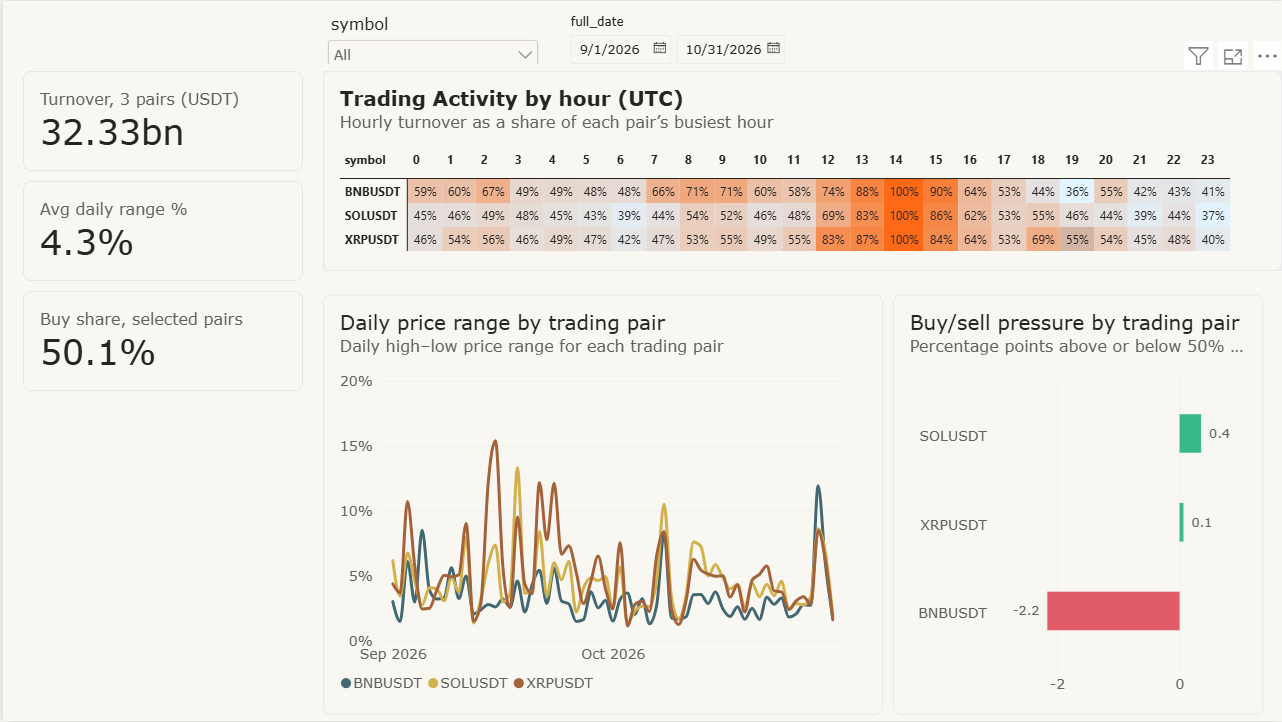

The dashboard page shown, as its layout file describes it:
{"tool":"powerbi","page":{"name":"Page 1","canvas":[1280,720],"ordinal":0},"visuals":[{"type":"pivotTable","title":"Trading Activity by hour (UTC)","fields":{"Columns":["gold vw_symbol_hourly_activity.hour_utc"],"Rows":["gold dim_symbol.symbol"],"Values":["Report Measures.Turnover vs own peak"]},"box":[320,70,960,200],"z":0},{"type":"slicer","fields":{"Values":["gold dim_symbol.symbol"]},"box":[320,12,220,50],"z":1000},{"type":"slicer","fields":{"Values":["gold dim_date.full_date"]},"box":[560,12,300,50],"z":2000},{"type":"lineChart","title":"Daily price range by trading pair","fields":{"Category":["gold dim_date.full_date"],"Series":["gold dim_symbol.symbol"],"Y":["Report Measures.Avg daily range %"]},"box":[320,293.8,560,420],"z":3000},{"type":"clusteredBarChart","title":"Buy/sell pressure by trading pair","fields":{"Category":["gold dim_symbol.symbol"],"Y":["Report Measures.Buy pressure pp"]},"box":[890,293.8,370,420],"z":4000},{"type":"cardVisual","fields":{"Data":["Report Measures.Turnover"]},"box":[20,70,280,100],"z":5000},{"type":"cardVisual","fields":{"Data":["Report Measures.Avg daily range %"]},"box":[20,180,280,100],"z":6000},{"type":"cardVisual","fields":{"Data":["Report Measures.Buy share"]},"box":[20,290,280,100],"z":7000}]}

Visuals, with their boxes in screenshot pixels (x1, y1, x2, y2), scaled from the page's 1280x720 canvas onto the 1282x722 screenshot:
"Trading Activity by hour (UTC)" pivotTable: rect(320, 70, 1281, 271)
slicer - gold dim_symbol.symbol: rect(320, 12, 541, 62)
slicer - gold dim_date.full_date: rect(561, 12, 861, 62)
"Daily price range by trading pair" lineChart: rect(320, 295, 881, 716)
"Buy/sell pressure by trading pair" clusteredBarChart: rect(891, 295, 1262, 716)
cardVisual - Report Measures.Turnover: rect(20, 70, 300, 170)
cardVisual - Report Measures.Avg daily range %: rect(20, 180, 300, 281)
cardVisual - Report Measures.Buy share: rect(20, 291, 300, 391)
